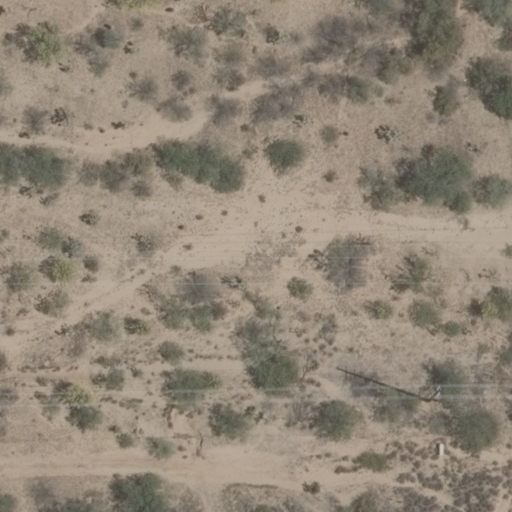DT: (421, 377, 447, 408)
